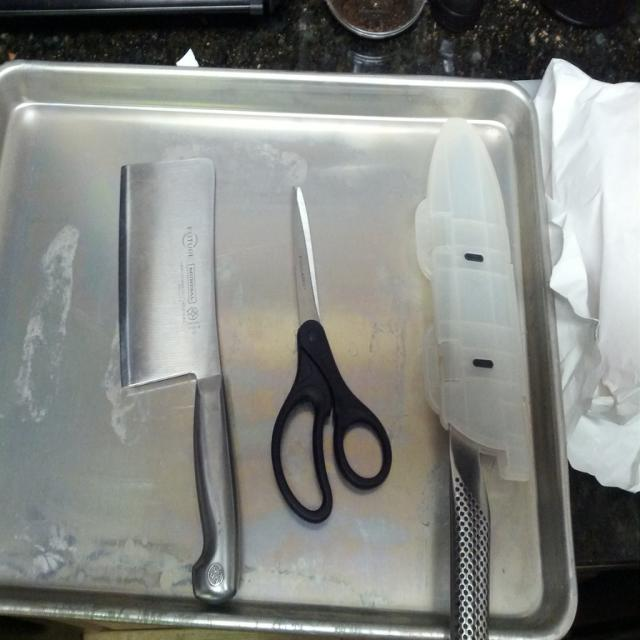scissors: (270, 185, 392, 523)
